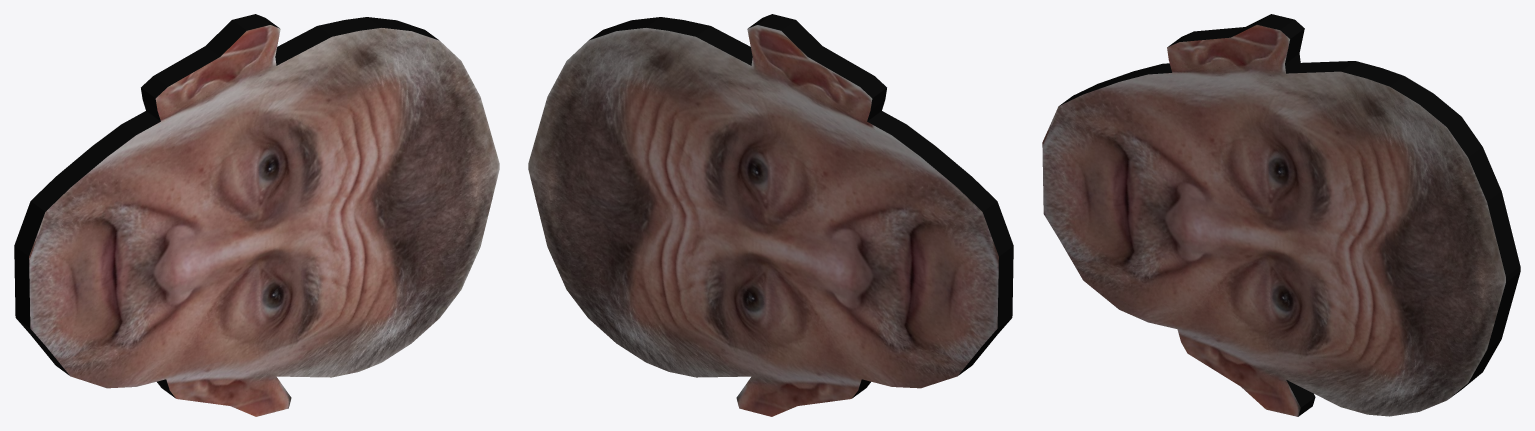
Rendered from babis.glb.
3 views of the same model, side by side, from view 1: azimuth 30°, elevation 25°; view 2: azimuth 150°, elevation 25°; view 3: azimuth 330°, elevation 25° (orthographic).
Parts seen in each view (by area): view 1: babis.001; view 2: babis.001; view 3: babis.001.
Part boxes in pixels (bbox=[...]): babis.001: bbox=[14, 14, 499, 416]; babis.001: bbox=[528, 14, 1013, 416]; babis.001: bbox=[1042, 14, 1520, 416].
Size of the model in its own units: 1.96 by 1.55 by 0.1073.
Materials: 1 (1 with a texture image).
